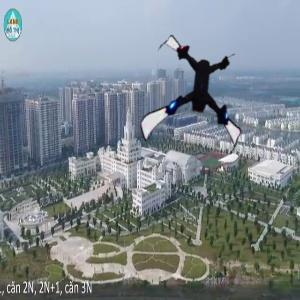drone: (144, 44, 258, 158)
